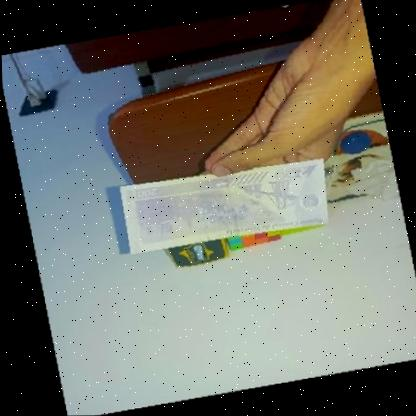two_hundred-back-vef: (115, 159, 330, 256)
